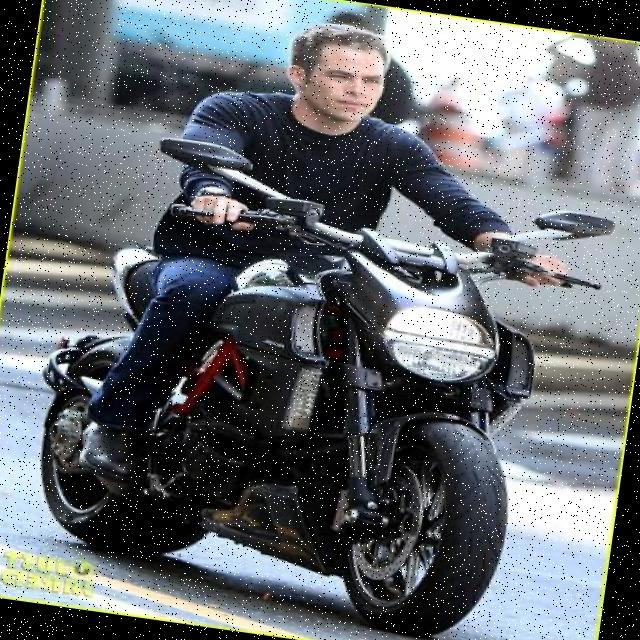No helmet: (288, 21, 402, 138)
